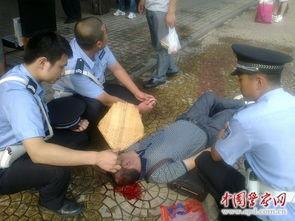Fall-Detected: (105, 80, 245, 189)
